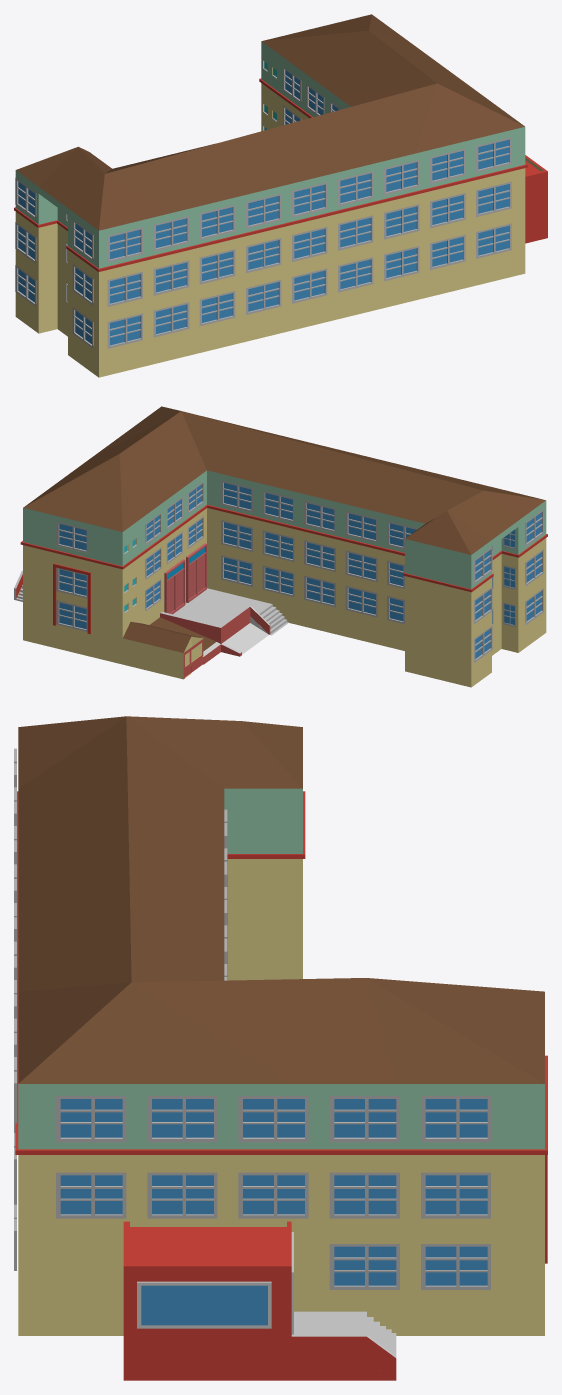
File: bilisim.fbx
3 views of the same model, one above another, from view 1: azimuth 30°, elevation 25°; view 2: azimuth 150°, elevation 25°; view 3: azimuth 270°, elevation 25° (orthographic). The views are drawn at different scales.
Visible parts, largest first — view 1: Cube, Cube.008, Cube.009, Cube.010, Cube.011, Cube.013, Cube.022, Cube.014, Cube.012; view 2: Cube, Cube.007, Cube.006, Cube.005, Cube.022, Cube.023, Cube.028, Cube.027, Cube.013, Cube.011, Cube.004, Cube.003 (+5 smaller); view 3: Cube, Cube.019, Cube.026, Cube.020, Cube.021, Cube.010.
Part boxes in pixels (x1=…): Cube: x1=14, y1=14, x2=547, y2=377; Cube.008: x1=107, y1=181, x2=511, y2=306; Cube.009: x1=107, y1=223, x2=511, y2=348; Cube.010: x1=107, y1=137, x2=511, y2=262; Cube.011: x1=72, y1=264, x2=93, y2=348; Cube.013: x1=15, y1=222, x2=36, y2=306; Cube.022: x1=283, y1=67, x2=341, y2=115; Cube.014: x1=15, y1=178, x2=36, y2=219; Cube.012: x1=72, y1=220, x2=93, y2=260; Cube: x1=14, y1=406, x2=547, y2=687; Cube.007: x1=221, y1=480, x2=418, y2=549; Cube.006: x1=221, y1=555, x2=404, y2=624; Cube.005: x1=221, y1=520, x2=404, y2=588; Cube.022: x1=145, y1=481, x2=203, y2=544; Cube.023: x1=145, y1=516, x2=203, y2=579; Cube.028: x1=164, y1=559, x2=185, y2=614; Cube.027: x1=186, y1=543, x2=206, y2=602; Cube.013: x1=474, y1=587, x2=492, y2=662; Cube.011: x1=525, y1=549, x2=543, y2=624; Cube.004: x1=56, y1=521, x2=88, y2=553; Cube.003: x1=56, y1=600, x2=87, y2=631; Cube: x1=15, y1=716, x2=547, y2=1380; Cube.019: x1=56, y1=1096, x2=490, y2=1142; Cube.026: x1=56, y1=1172, x2=490, y2=1218; Cube.020: x1=329, y1=1244, x2=490, y2=1289; Cube.021: x1=137, y1=1281, x2=271, y2=1328; Cube.010: x1=14, y1=748, x2=16, y2=1123.
Bounding box in the file's own units: 4489 × 1617 × 2506.
